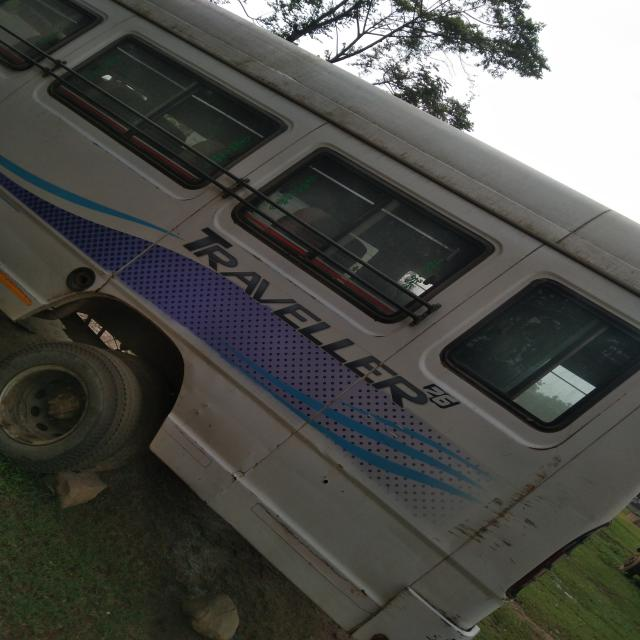Bus: (3, 0, 640, 639)
